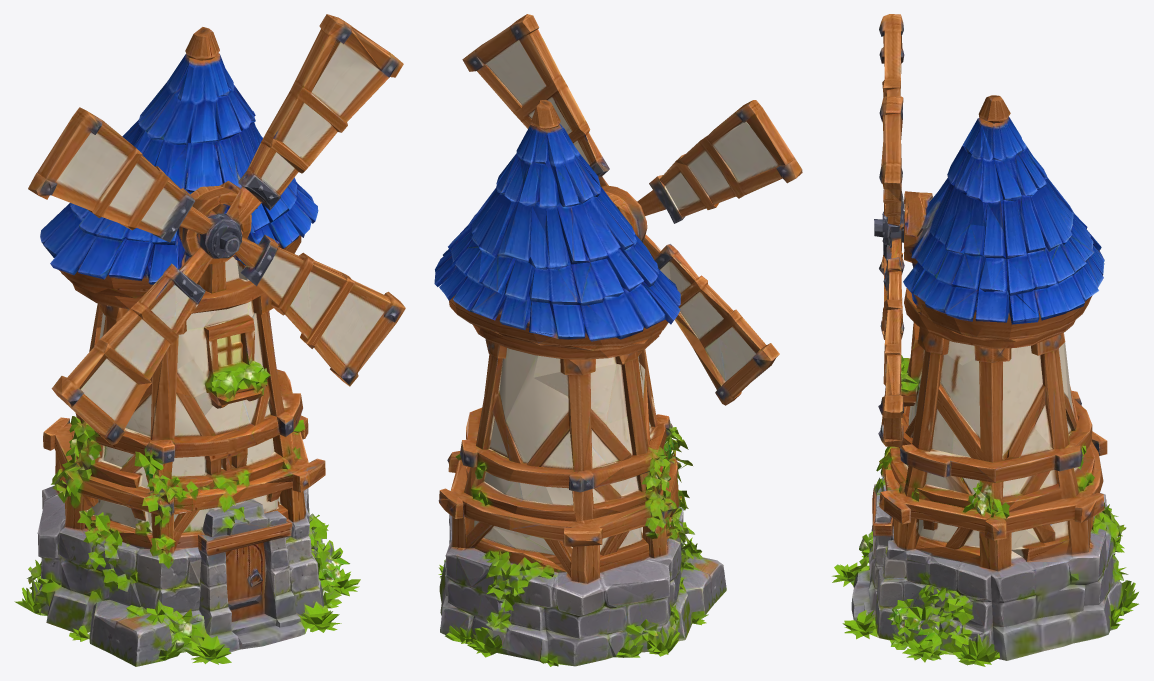
File: windmill.glb
The picture shows the model from 3 angles, left to right: view 1: azimuth 30°, elevation 25°; view 2: azimuth 150°, elevation 25°; view 3: azimuth 270°, elevation 25°; orthographic projection. The views are drawn at different scales.
Parts seen in each view (by area): view 1: output_unwrapped; view 2: output_unwrapped; view 3: output_unwrapped.
Boxes of the visible parts, box(x1,y1,x2,y2) form: output_unwrapped: box(14, 14, 405, 666); output_unwrapped: box(434, 14, 802, 666); output_unwrapped: box(832, 14, 1138, 666).
Size of what is drawn, in the model's own units: 0.6593 by 1 by 0.5089.
1 material, 1 textured.
